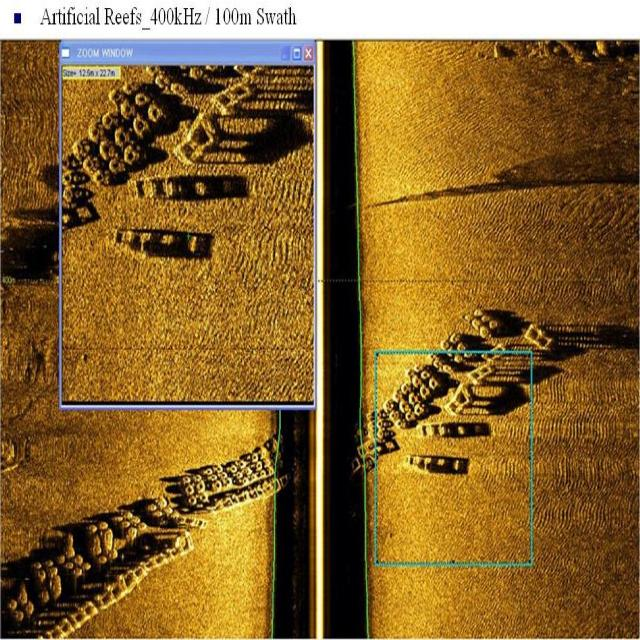other: (6, 420, 278, 634), (62, 68, 309, 260), (359, 274, 559, 500)
